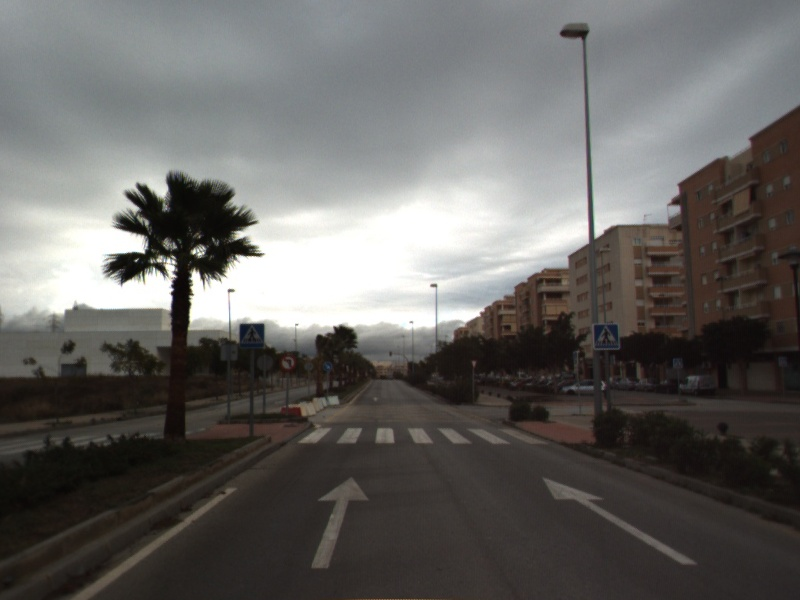STRAIGHT: (540, 475, 699, 567), (309, 474, 372, 570)
